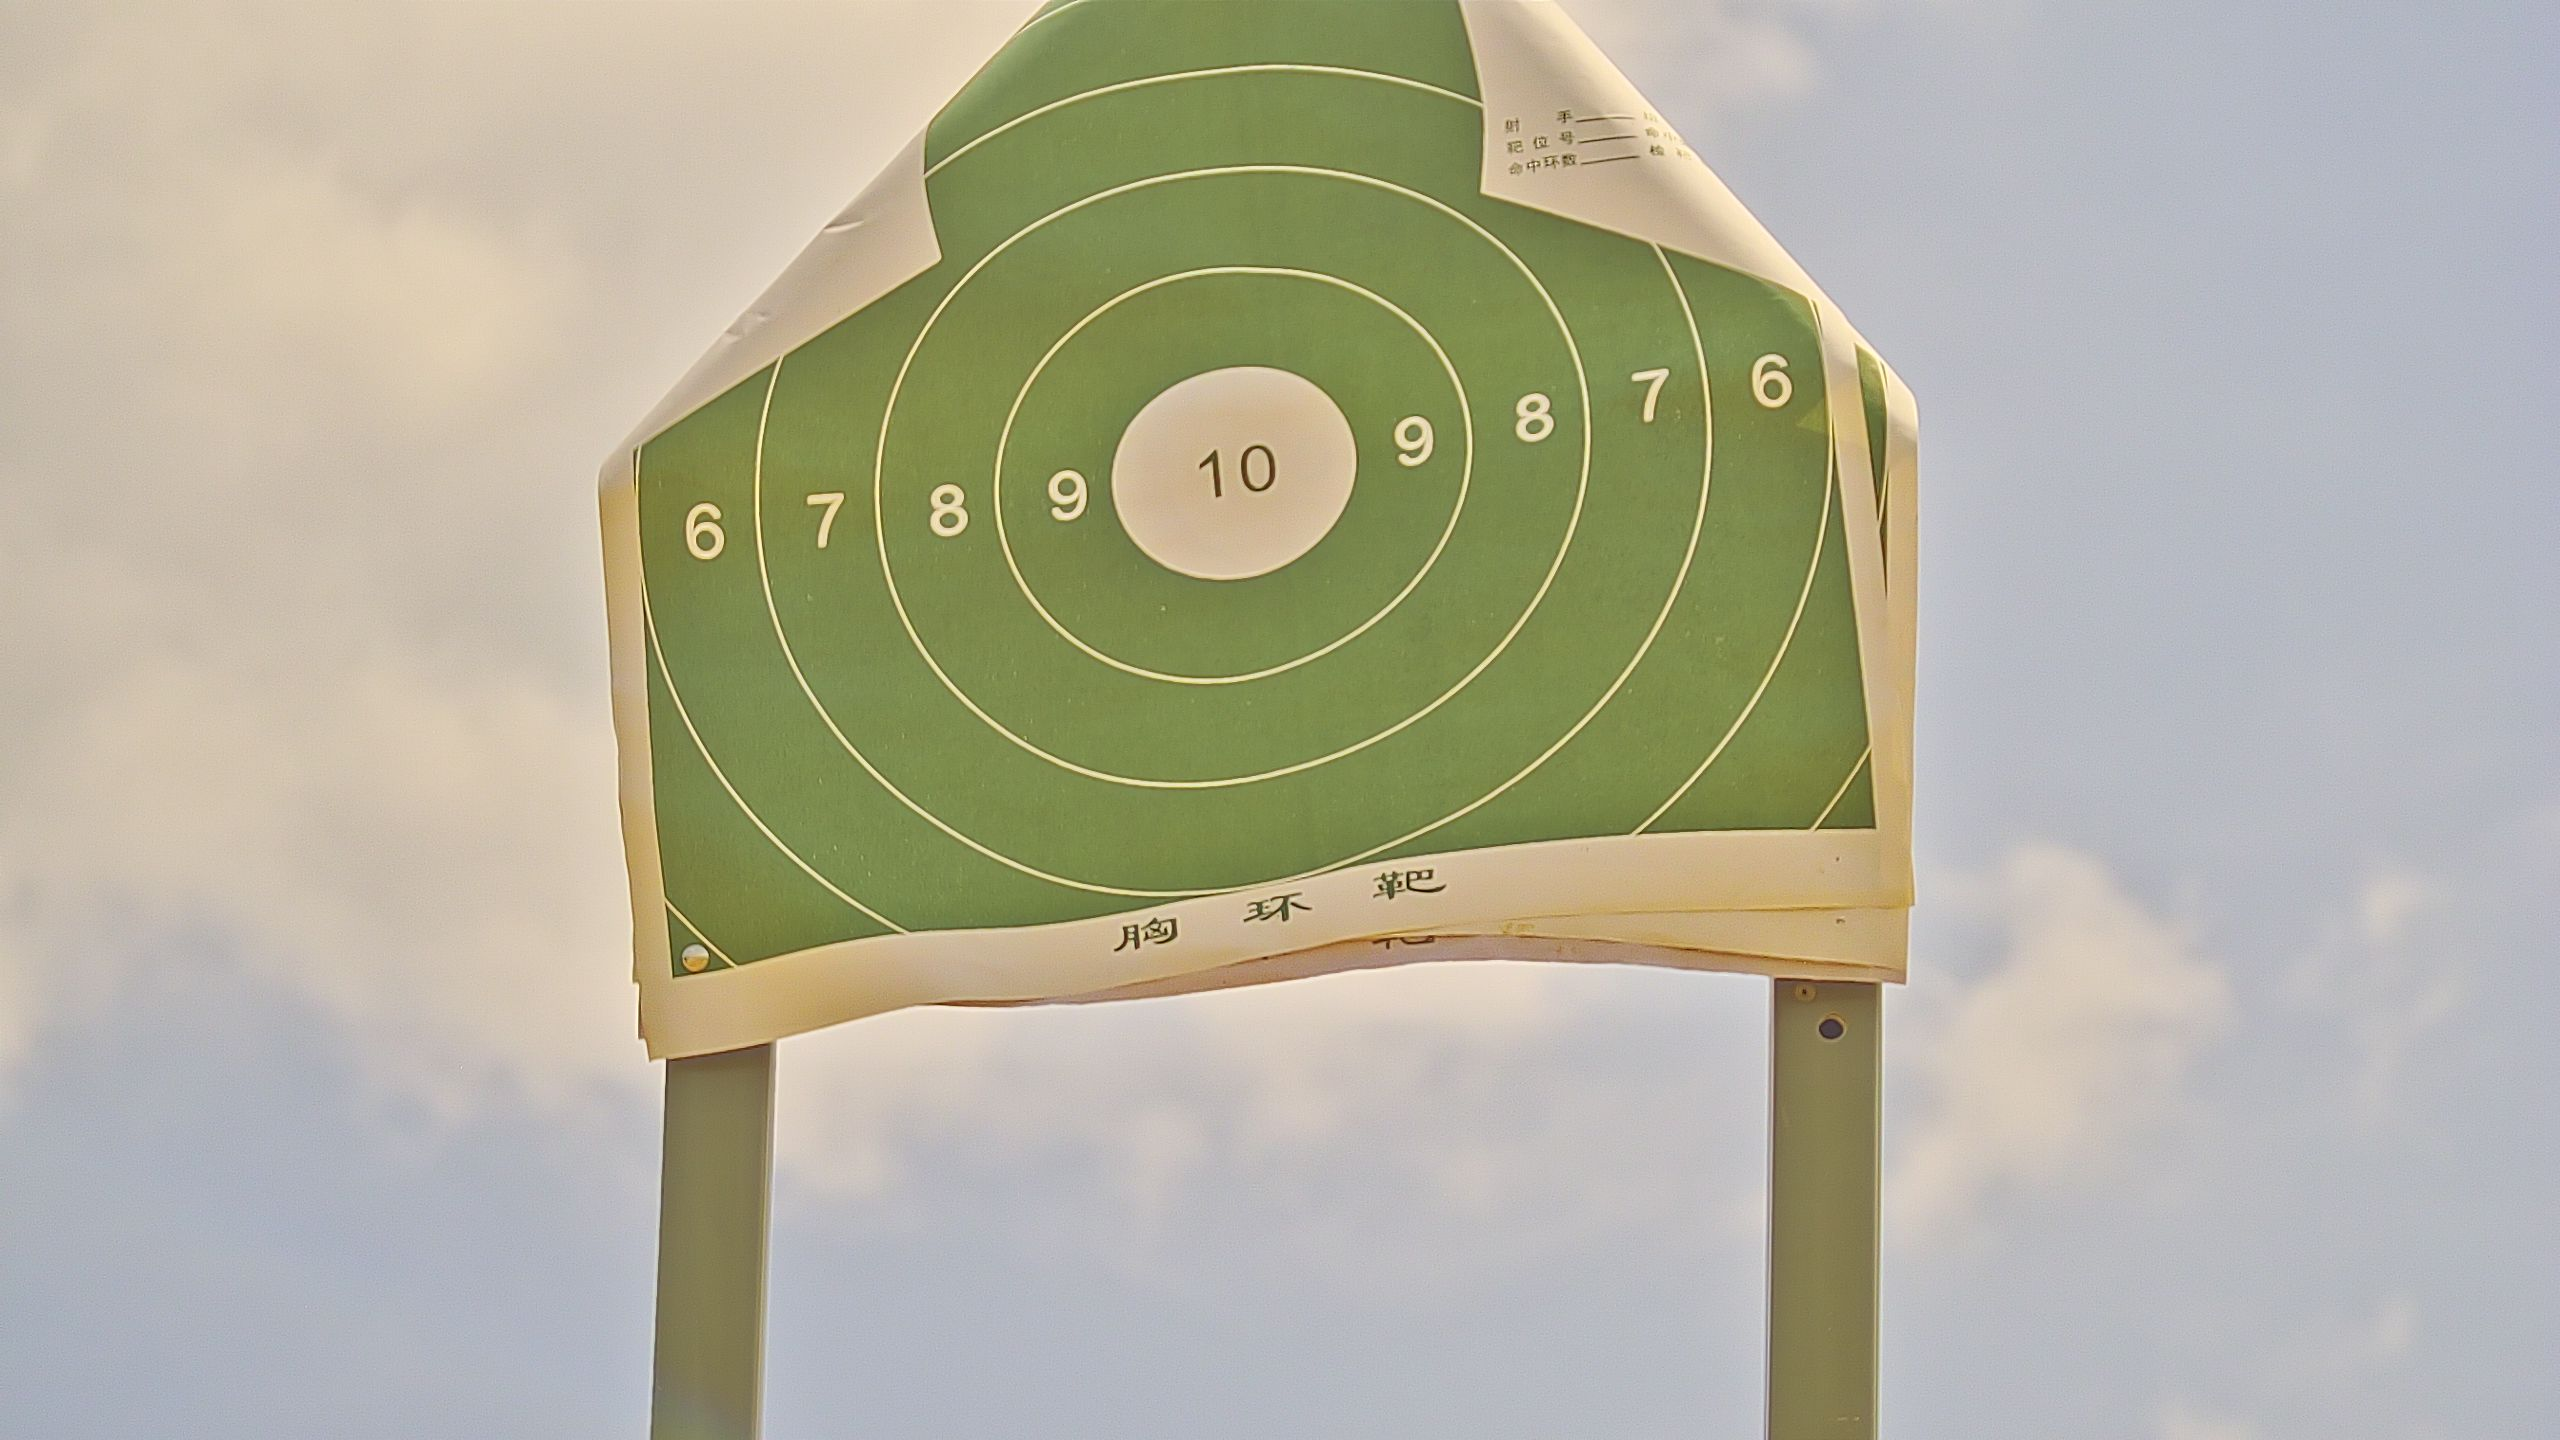kernel: (1229, 471, 1234, 476)
target: (635, 7, 1876, 997)
ten: (1109, 366, 1361, 589)
